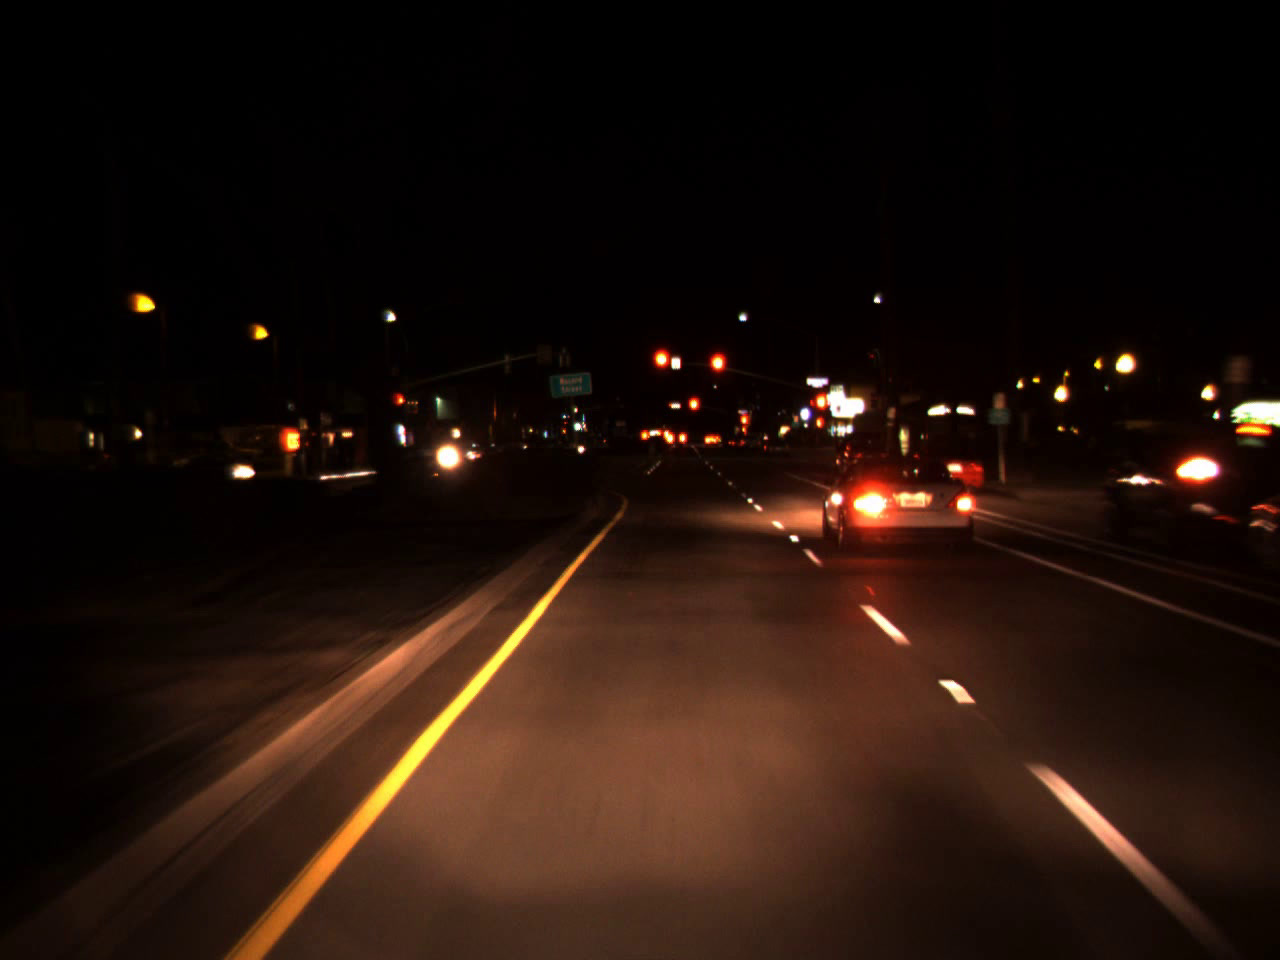stop: (650, 345, 672, 390), (707, 349, 728, 394), (391, 391, 409, 423), (686, 395, 701, 427), (813, 391, 828, 415), (739, 411, 749, 438)
